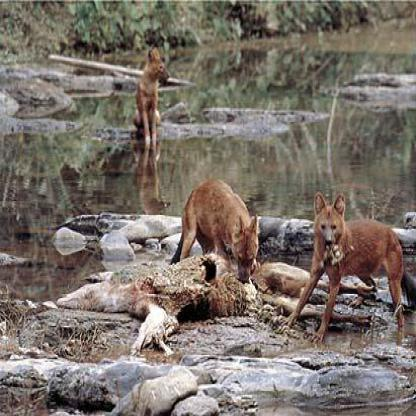dhole: (287, 186, 407, 340), (171, 178, 259, 282)
